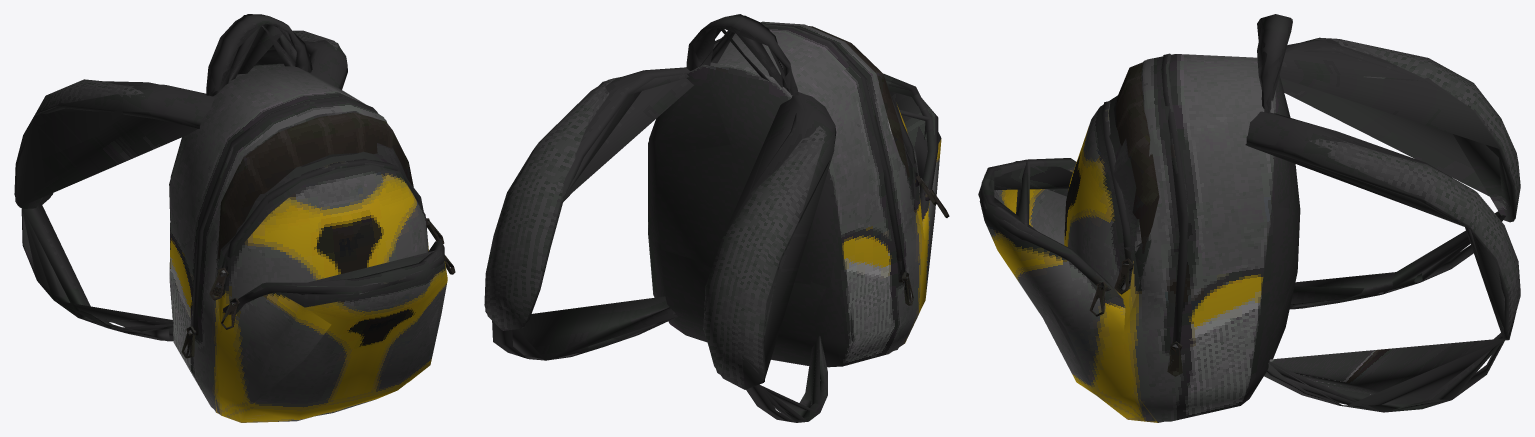
The model's file is item_backpack_realistic.glb.
3 renders of one model, left to right at view 1: azimuth 30°, elevation 25°; view 2: azimuth 150°, elevation 25°; view 3: azimuth 270°, elevation 25°, orthographic. The views are drawn at different scales.
Parts seen in each view (by area): view 1: Backpack_Closed, Backpack_Opened; view 2: Backpack_Opened, Backpack_Closed; view 3: Backpack_Closed, Backpack_Opened.
Boxes of the visible parts, x1=… form: Backpack_Closed: x1=14, y1=14, x2=444, y2=422; Backpack_Opened: x1=15, y1=15, x2=455, y2=422; Backpack_Opened: x1=485, y1=14, x2=949, y2=422; Backpack_Closed: x1=484, y1=15, x2=937, y2=422; Backpack_Closed: x1=1064, y1=14, x2=1520, y2=421; Backpack_Opened: x1=978, y1=15, x2=1520, y2=422.
Size of the model in its own units: 0.4039 by 0.4848 by 0.6494.
Materials: 1 (1 with a texture image).
